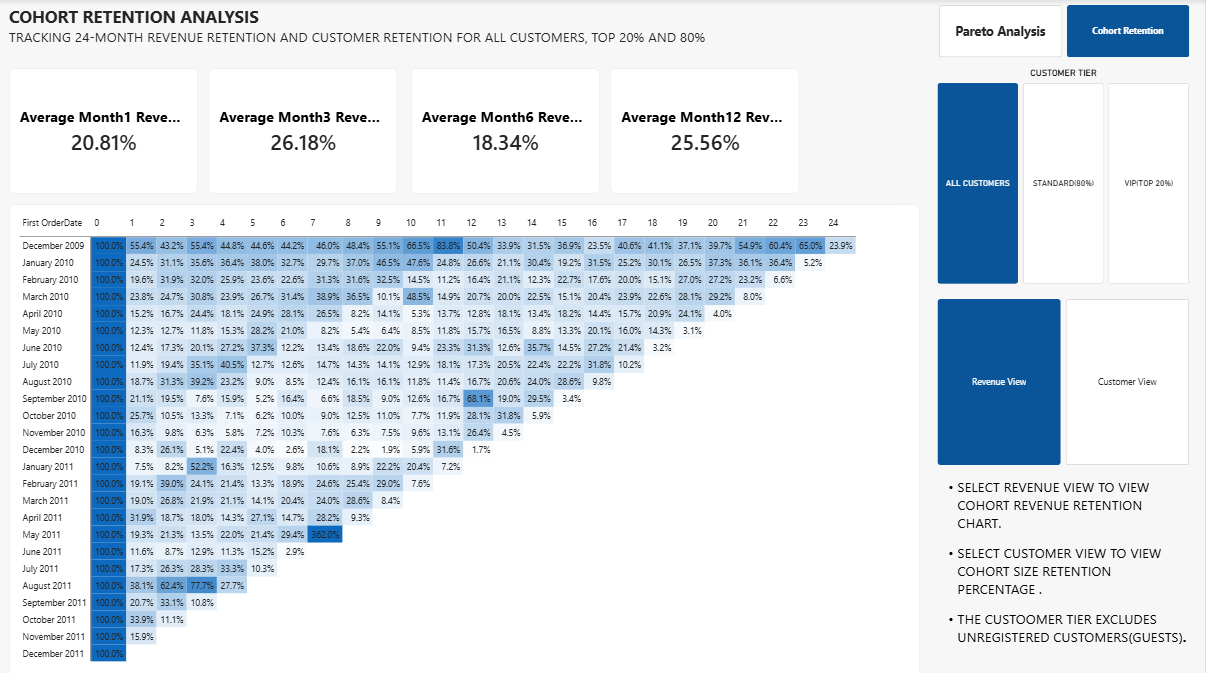

What the dashboard file says about the page in this screenshot:
{"tool":"powerbi","page":{"name":"Cohort Retention","canvas":[1920,1080],"ordinal":1},"visuals":[{"type":"pageNavigator","box":[1498.4,9.5,398.4,83.5],"z":0},{"type":"pivotTable","fields":{"Columns":["retailproject vw_cohort_retention_all.month_number"],"Rows":["retailproject vw_cohort_retention_all.first_order_date"],"Values":["retailproject vw_cohort_retention_all.Retention Percent"]},"box":[19.1,326.9,1412.5,737.2],"z":1000},{"type":"pivotTable","fields":{"Columns":["retailproject vw_cohort_retention_all.month_number"],"Rows":["retailproject vw_cohort_retention_all.first_order_date"],"Values":["retailproject vw_cohort_retention_all.Retention percentage"]},"box":[19.1,326.9,1448.3,753.9],"z":2000},{"type":"bookmarkNavigator","box":[1496,477.2,400.8,264.8],"z":3000},{"type":"advancedSlicerVisual","title":"CUSTOMER TIER","fields":{"Values":["retailproject vw_cohort_retention_all.segment"]},"box":[1496,109.8,400.8,343.6],"z":4000},{"type":"textbox","box":[20,10,1390.4,83.9],"z":5000},{"type":"cardVisual","fields":{"Data":["retailproject fact_sales.Average month1 retention"]},"box":[19.1,109.8,300,200],"z":6000},{"type":"cardVisual","fields":{"Data":["retailproject fact_sales.average month2 retention"]},"box":[336.4,109.8,300,200],"z":7000},{"type":"cardVisual","fields":{"Data":["retailproject fact_sales.average month6 retention"]},"box":[658.5,109.8,300,200],"z":8000},{"type":"cardVisual","fields":{"Data":["retailproject fact_sales.average year1 retention"]},"box":[975.8,109.8,300,200],"z":9000},{"type":"textbox","box":[1496,761.1,400.8,303],"z":9001}]}

Visuals, with their boxes in screenshot pixels (x1, y1, x2, y2), scaled from the page's 1920x1080 canvas onto the 1206x673 screenshot:
pageNavigator: <bbox>941, 6, 1191, 58</bbox>
pivotTable - retailproject vw_cohort_retention_all.month_number x retailproject vw_cohort_retention_all.first_order_date: <bbox>12, 204, 899, 663</bbox>
pivotTable - retailproject vw_cohort_retention_all.month_number x retailproject vw_cohort_retention_all.first_order_date: <bbox>12, 204, 922, 672</bbox>
bookmarkNavigator: <bbox>940, 297, 1191, 462</bbox>
"CUSTOMER TIER" advancedSlicerVisual: <bbox>940, 68, 1191, 283</bbox>
textbox: <bbox>13, 6, 886, 59</bbox>
cardVisual - retailproject fact_sales.Average month1 retention: <bbox>12, 68, 200, 193</bbox>
cardVisual - retailproject fact_sales.average month2 retention: <bbox>211, 68, 400, 193</bbox>
cardVisual - retailproject fact_sales.average month6 retention: <bbox>414, 68, 602, 193</bbox>
cardVisual - retailproject fact_sales.average year1 retention: <bbox>613, 68, 801, 193</bbox>
textbox: <bbox>940, 474, 1191, 663</bbox>
